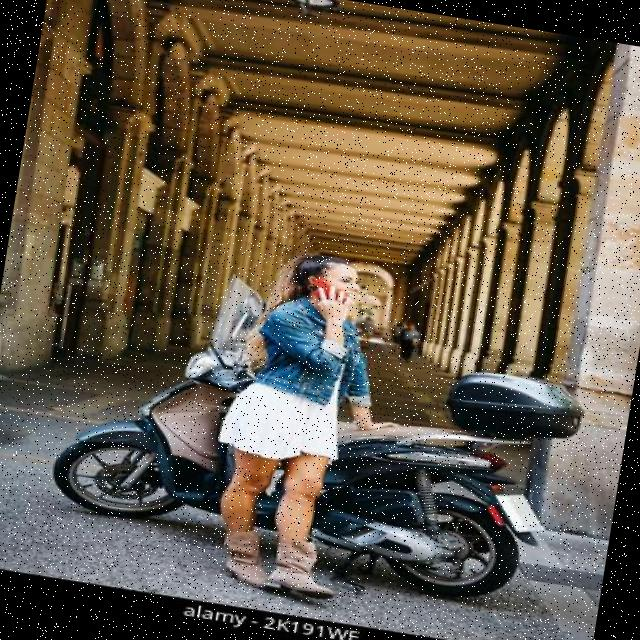Using mobile: (262, 238, 406, 372)
